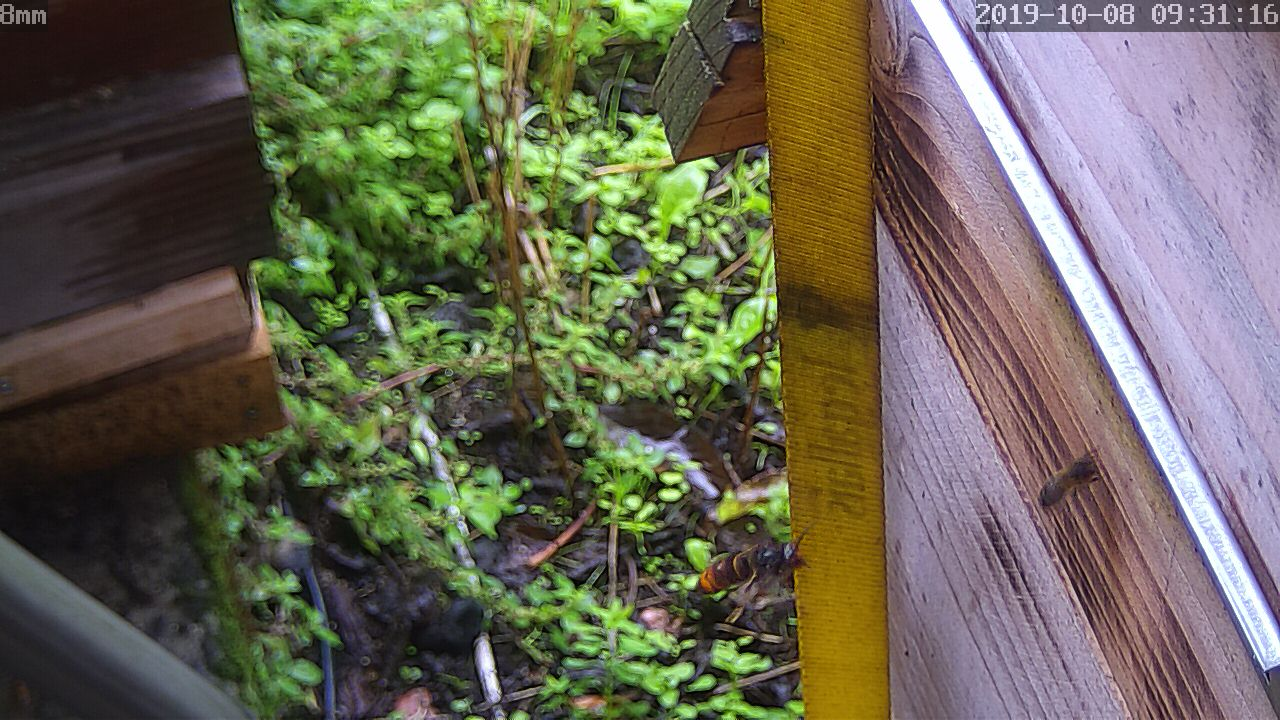hornet: (691, 536, 815, 605), (1029, 450, 1108, 518)
